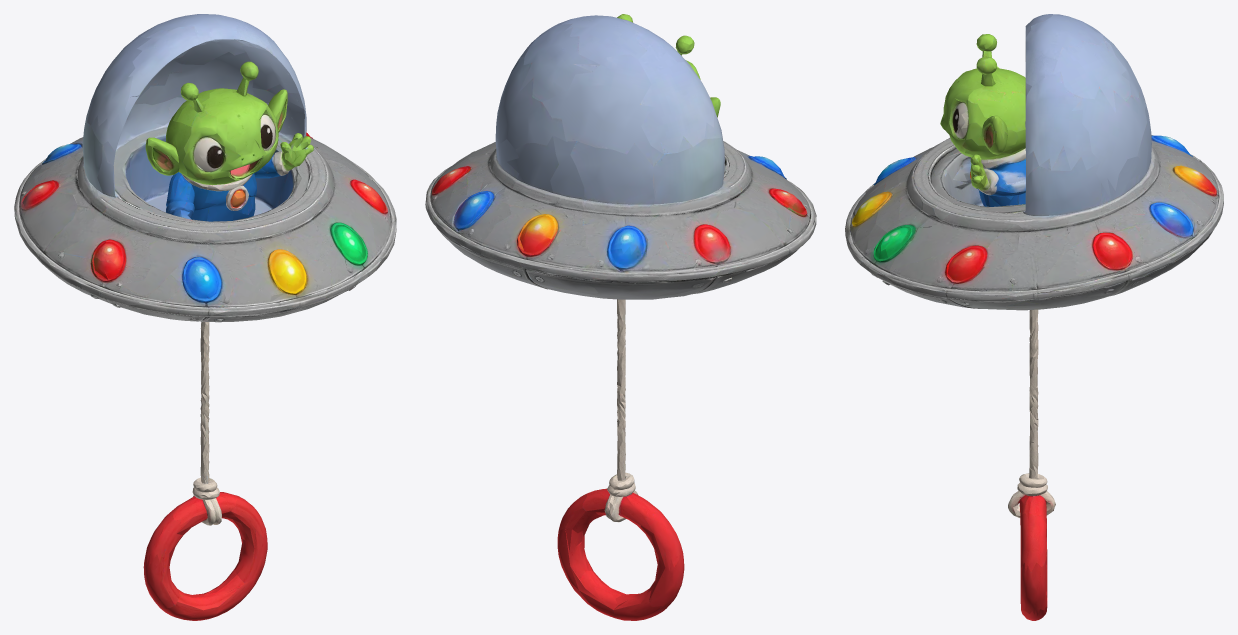
File: ufo_string.glb
3 renders of one model, left to right at view 1: azimuth 30°, elevation 25°; view 2: azimuth 150°, elevation 25°; view 3: azimuth 270°, elevation 25°, orthographic. The views are drawn at different scales.
Parts seen in each view (by area): view 1: Mesh_0; view 2: Mesh_0; view 3: Mesh_0.
Part boxes in pixels (x1,y1,x2,y2): Mesh_0: [14, 14, 396, 620]; Mesh_0: [425, 14, 816, 620]; Mesh_0: [845, 14, 1223, 620].
Size of the model in its own units: 0.5878 by 1 by 0.582.
1 material, 1 textured.
